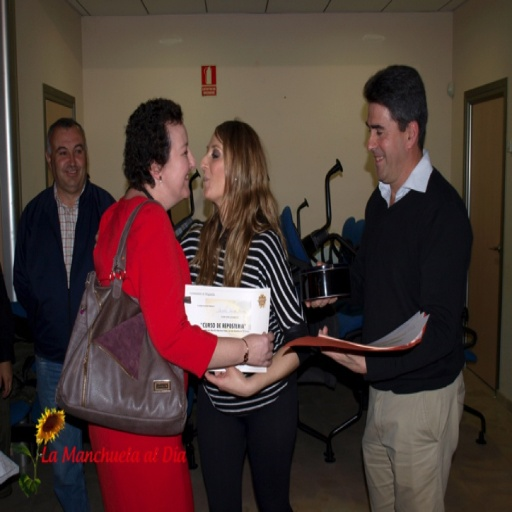hand: (317, 325, 366, 373), (237, 322, 276, 380), (302, 259, 337, 310), (203, 364, 251, 398), (0, 358, 11, 396), (92, 229, 98, 248)
